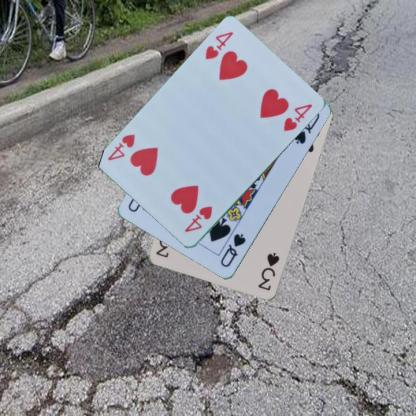3s: (255, 250, 281, 292)
4h: (202, 29, 235, 62), (181, 204, 214, 234)
Qs: (218, 231, 247, 269)
